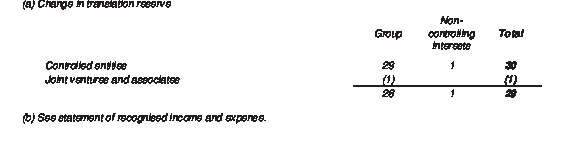table: (0, 0, 568, 142)
